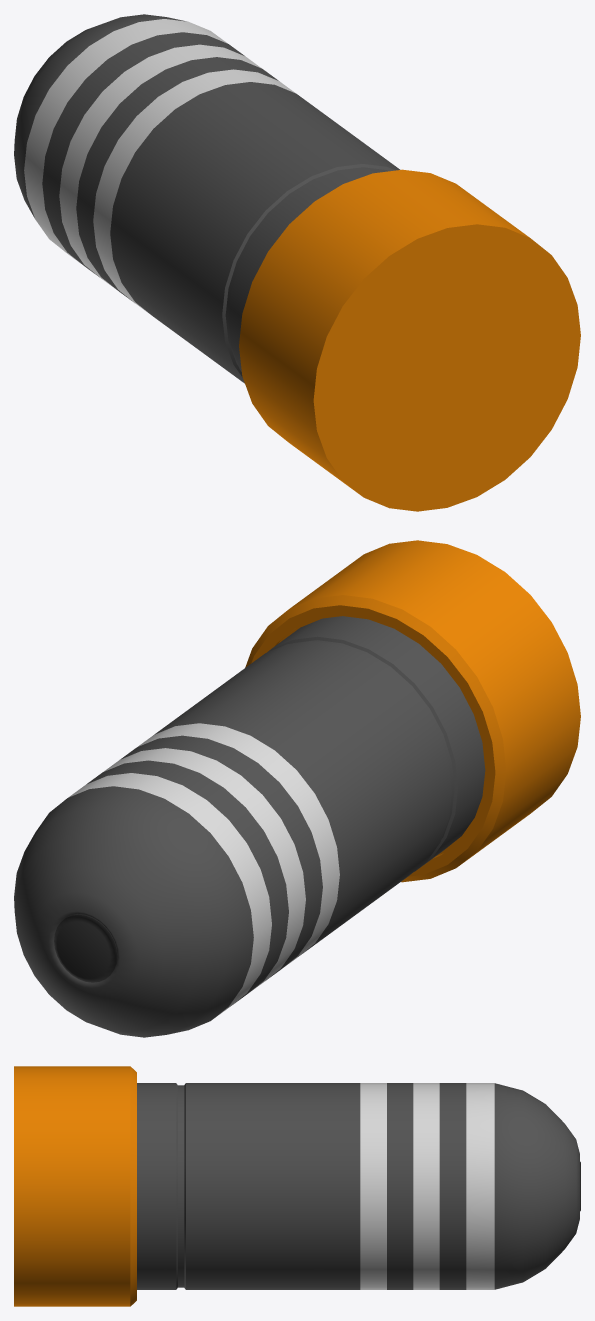
The model's file is env_building_tanksmall_lod0.fbx.
The picture shows the model from 3 angles, top to bottom: view 1: azimuth 30°, elevation 25°; view 2: azimuth 150°, elevation 25°; view 3: azimuth 270°, elevation 25°; orthographic projection. The views are drawn at different scales.
Visible parts, largest first — view 1: tanksmall_lod0; view 2: tanksmall_lod0; view 3: tanksmall_lod0.
Part boxes in pixels (x1,y1,x2,y2): tanksmall_lod0: [14, 14, 580, 511]; tanksmall_lod0: [14, 540, 580, 1037]; tanksmall_lod0: [14, 1066, 580, 1306].
Bounding box in the file's own units: 95.51 × 95.51 × 225.
